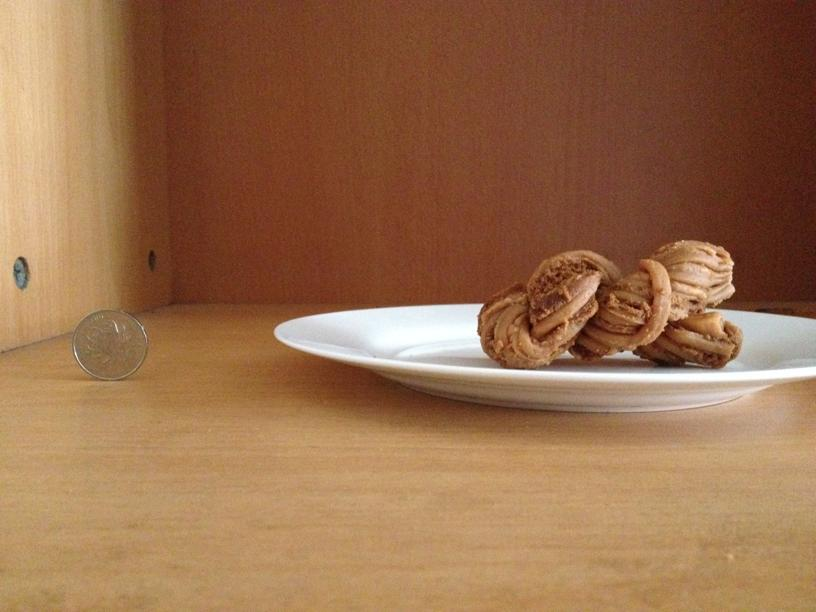coin: (73, 307, 147, 379)
fired_dough_twist: (478, 246, 743, 368)
